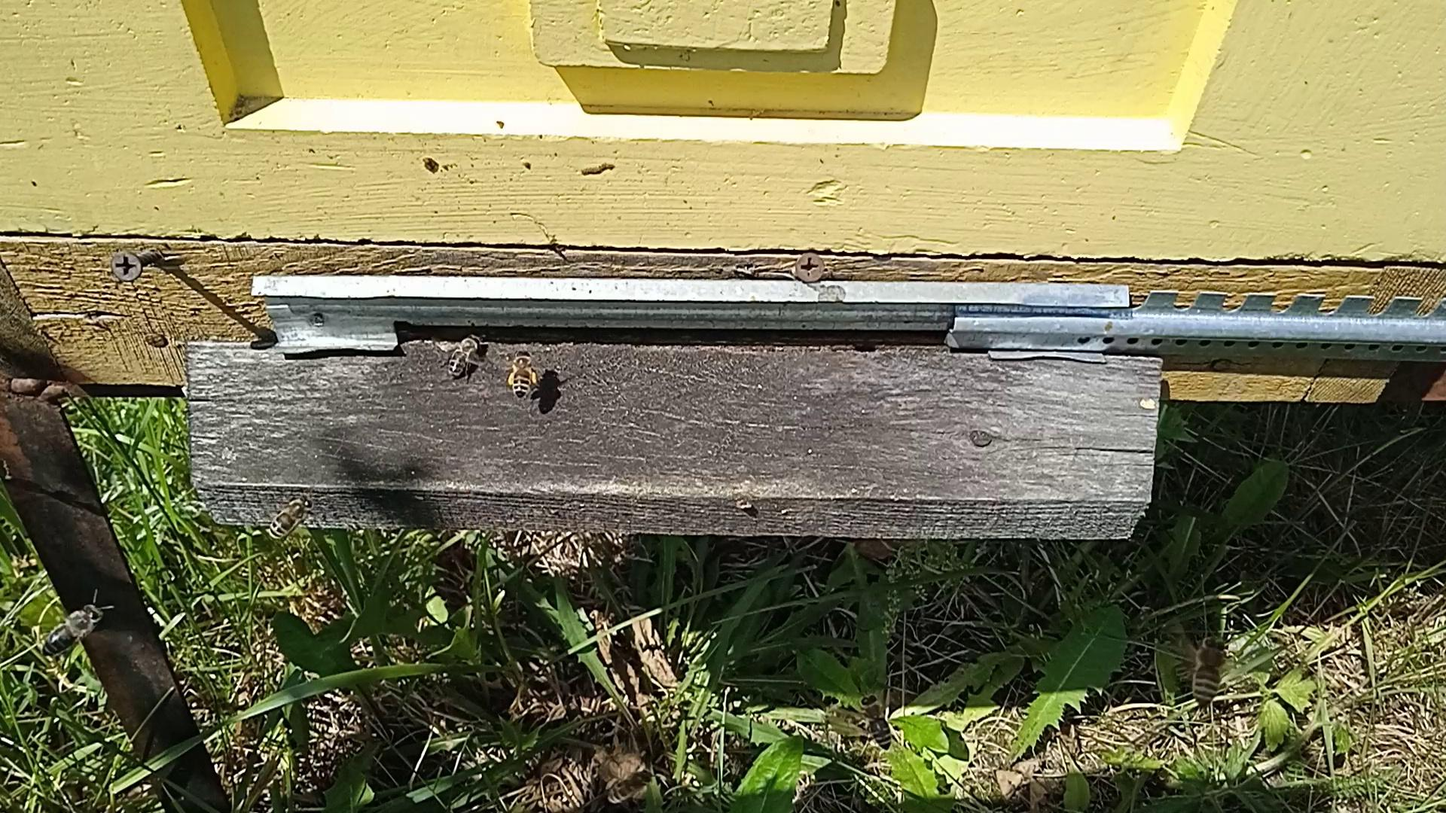worker-bee: (42, 604, 104, 657), (1191, 636, 1228, 705), (268, 495, 316, 538), (442, 332, 484, 379), (605, 769, 654, 804), (860, 693, 890, 750), (505, 349, 538, 399)
